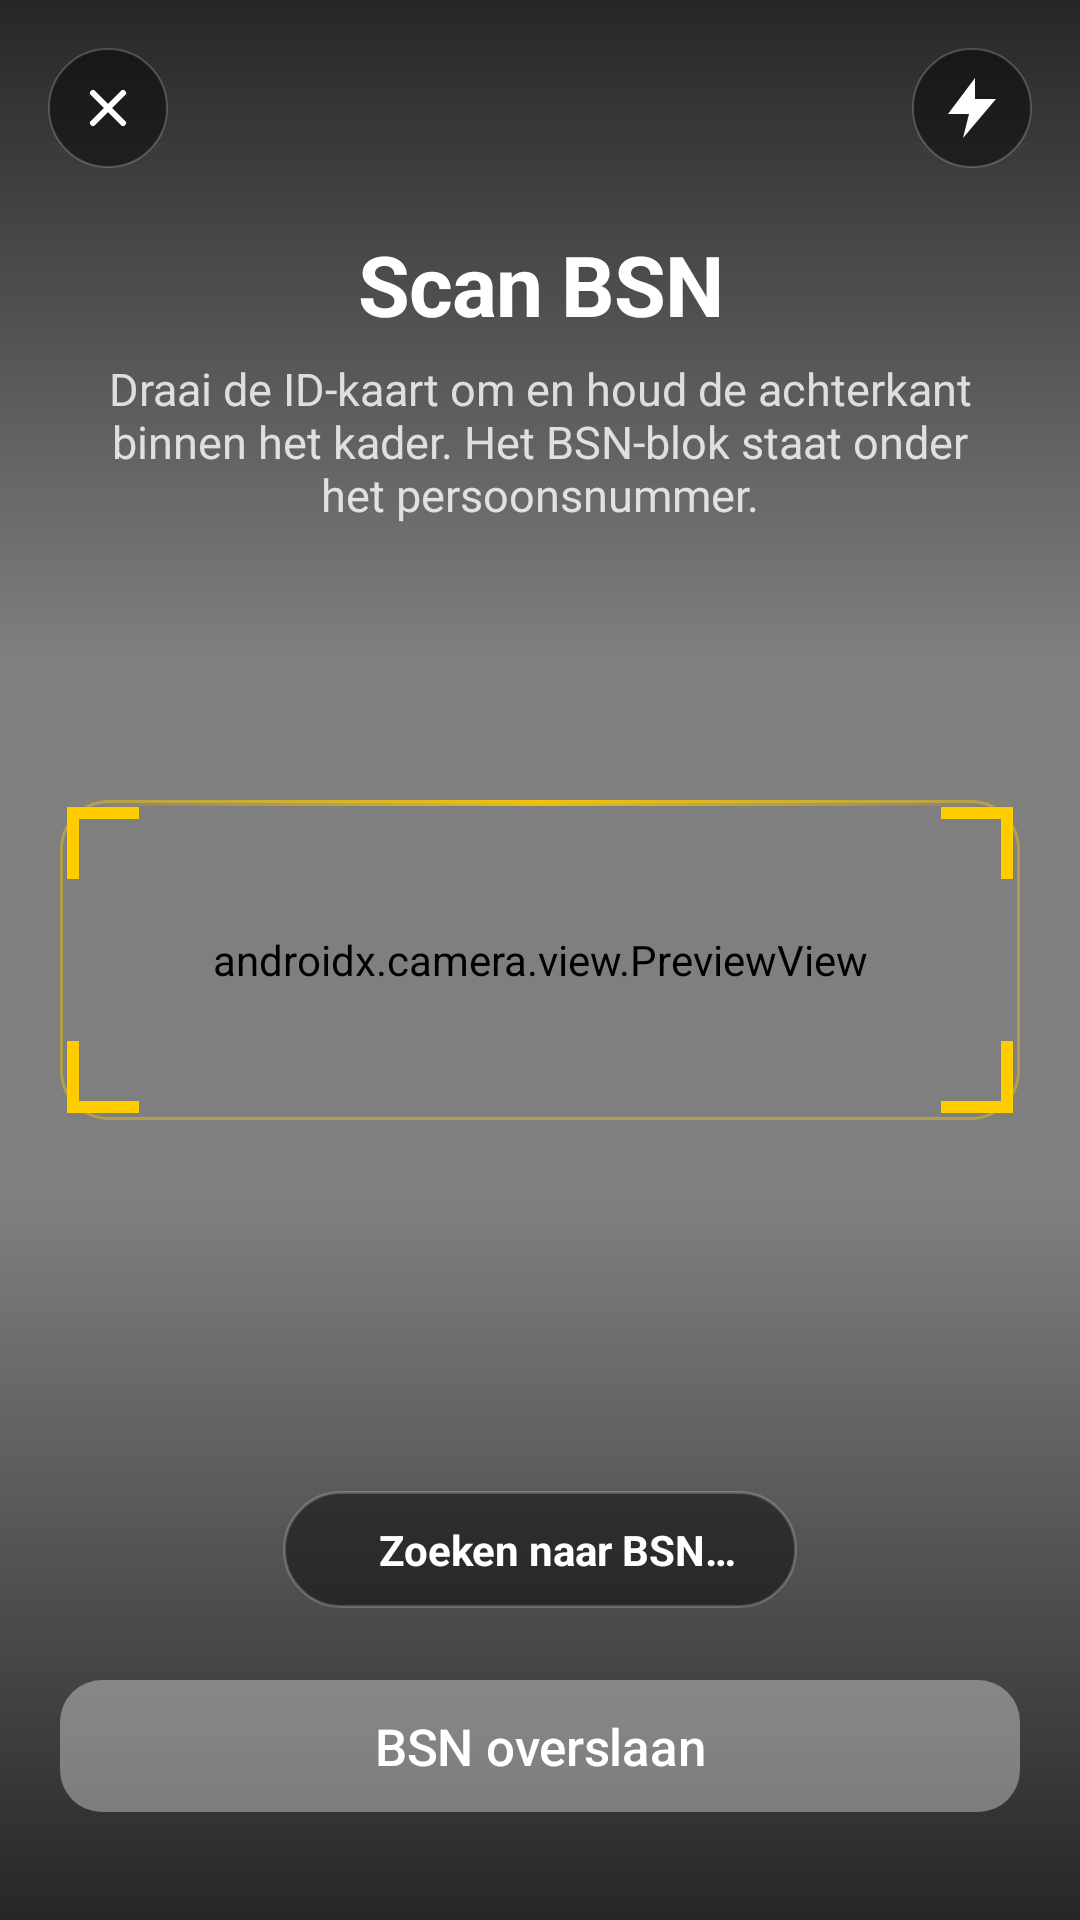

Locate icon controls on the screen. Image size 1080 × 1920, boxes as (x1, y1, x2, y2).
Sluiten: (48, 48, 168, 168)
Zaklamp: (912, 48, 1032, 168)
